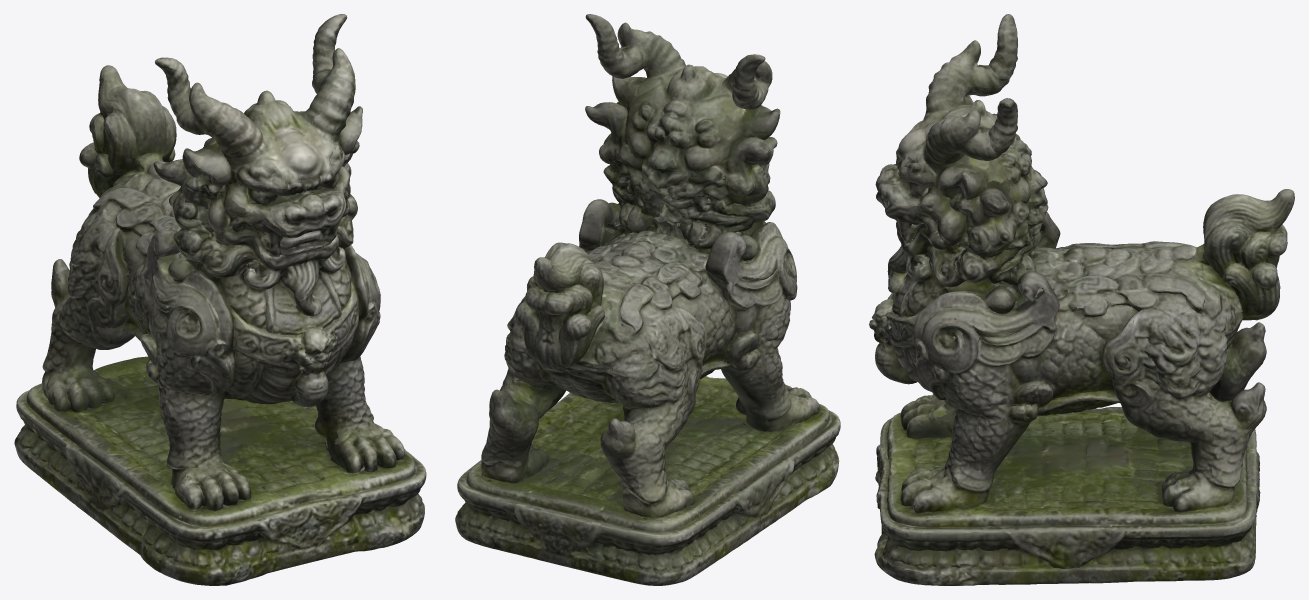
The model's file is demon-statue.glb.
3 renders of one model, left to right at view 1: azimuth 30°, elevation 25°; view 2: azimuth 150°, elevation 25°; view 3: azimuth 270°, elevation 25°, orthographic. The views are drawn at different scales.
Visible parts, largest first — view 1: geometry_0; view 2: geometry_0; view 3: geometry_0.
Boxes of the visible parts, left/top/right/bottom form: geometry_0: left=14, top=14, right=426, bottom=585; geometry_0: left=455, top=14, right=840, bottom=585; geometry_0: left=869, top=14, right=1294, bottom=585.
Bounding box in the file's own units: 0.2978 × 0.52 × 0.4273.
Materials: 1 (1 with a texture image).
